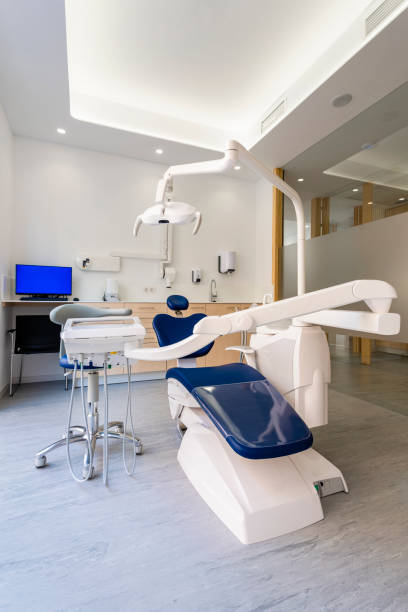chair: (9, 316, 68, 397)
computer: (14, 264, 72, 295)
counter: (6, 298, 273, 381)
dispenser: (217, 251, 238, 277), (189, 268, 205, 285)
exam_table: (148, 294, 321, 544)
handle: (136, 307, 155, 311), (190, 306, 208, 310), (144, 326, 156, 331), (223, 307, 242, 310), (146, 336, 157, 341), (99, 306, 115, 309)
keyboard: (18, 297, 68, 301)
mouse: (73, 296, 82, 303)
surgical_light: (134, 198, 203, 236)
